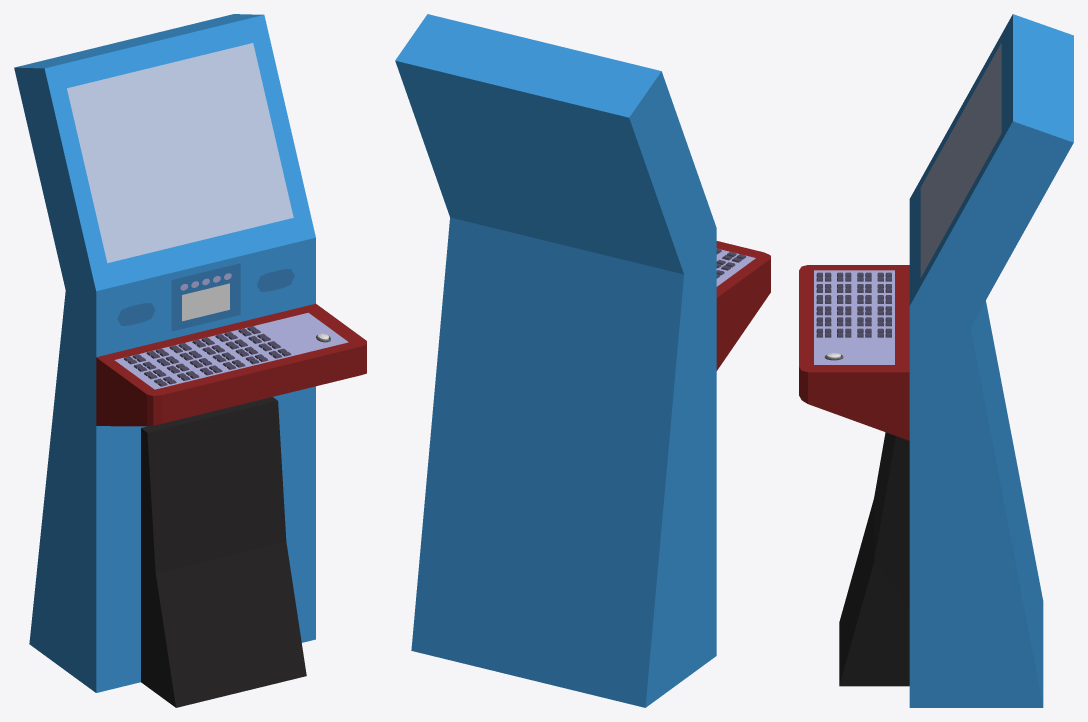
The model's file is ClearanceMachine.glb.
The picture shows the model from 3 angles, left to right: view 1: azimuth 30°, elevation 25°; view 2: azimuth 150°, elevation 25°; view 3: azimuth 270°, elevation 25°; orthographic projection. The views are drawn at different scales.
Visible parts, largest first — view 1: Clearance Machine; view 2: Clearance Machine; view 3: Clearance Machine.
Part boxes in pixels (x1,y1,x2,y2): Clearance Machine: (14,14,366,707); Clearance Machine: (395,14,770,707); Clearance Machine: (799,14,1073,707).
Bounding box in the file's own units: 0.6717 × 1.71 × 0.727.
